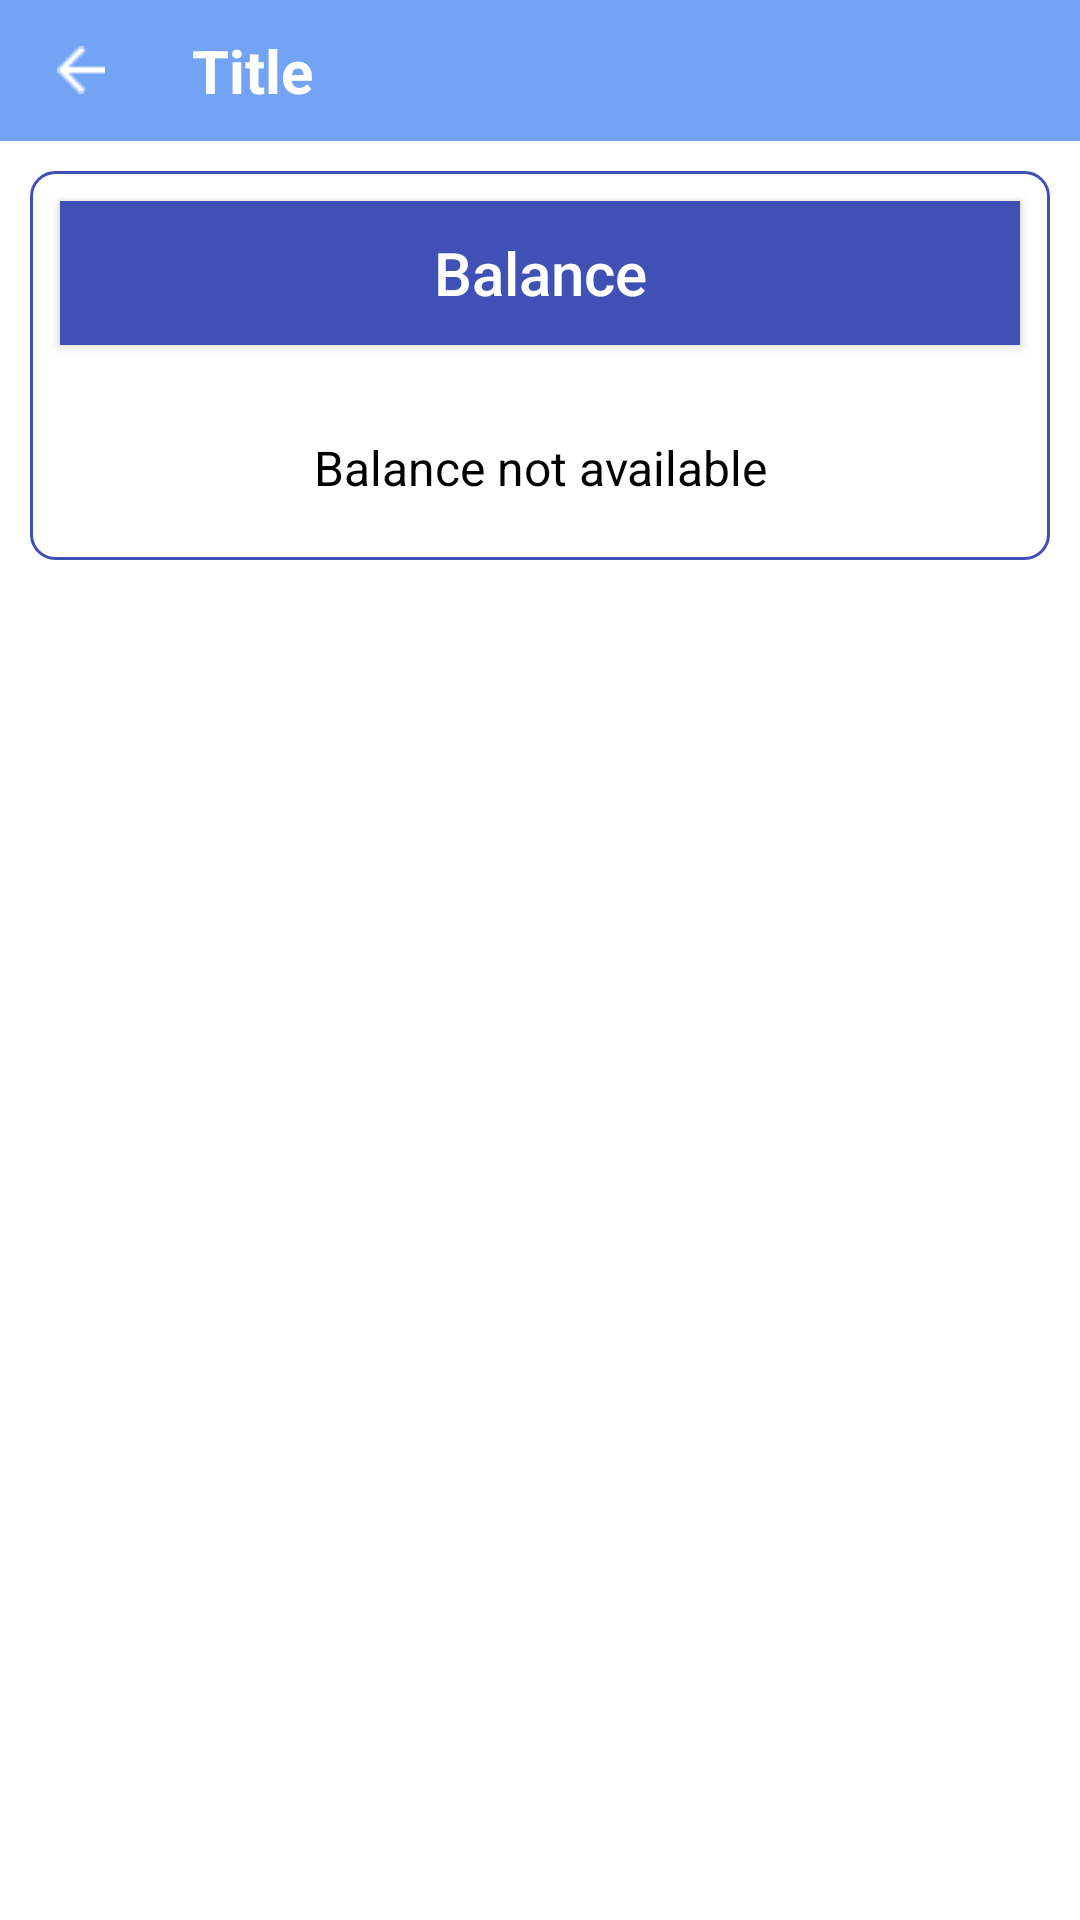

Icon click points for this 1080*1920 phone screenshot, format [x,y]:
back: [81,70]
